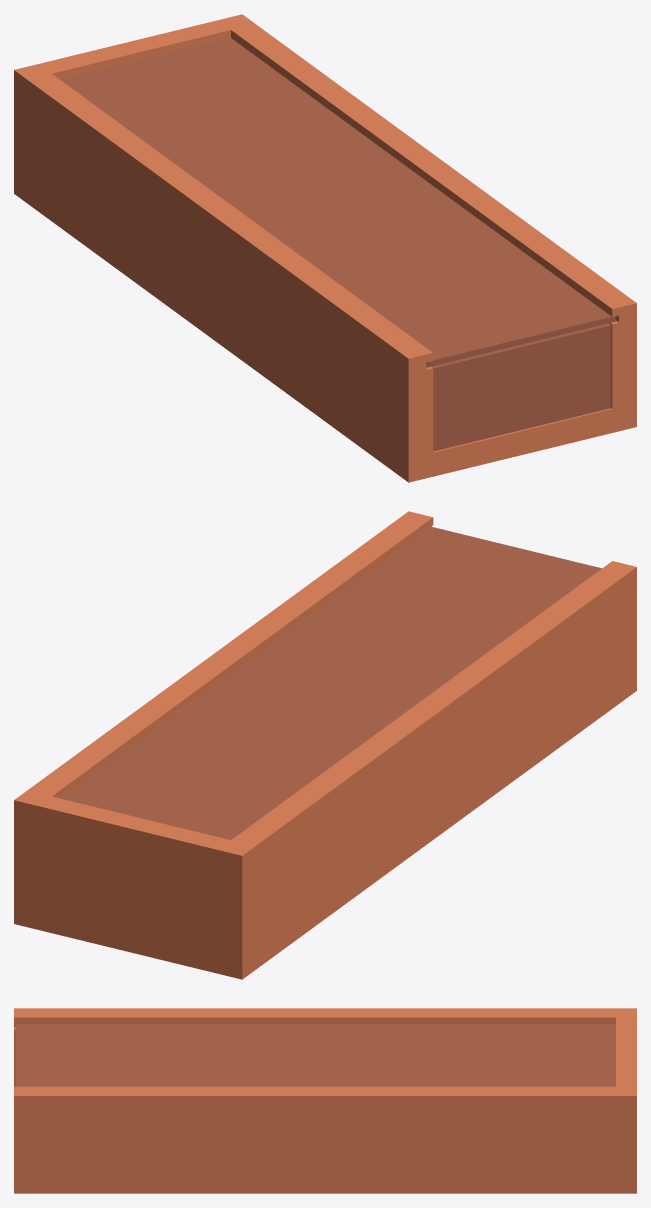
The model's file is Domino_01.fbx.
The picture shows the model from 3 angles, top to bottom: view 1: azimuth 30°, elevation 25°; view 2: azimuth 150°, elevation 25°; view 3: azimuth 270°, elevation 25°; orthographic projection. The views are drawn at different scales.
Parts seen in each view (by area): view 1: Domino_01, Domino_01_Top; view 2: Domino_01, Domino_01_Top; view 3: Domino_01, Domino_01_Top.
Part boxes in pixels (bbox=[...]): Domino_01: bbox=[14, 14, 636, 482]; Domino_01_Top: bbox=[60, 38, 615, 367]; Domino_01: bbox=[14, 511, 636, 979]; Domino_01_Top: bbox=[60, 526, 601, 839]; Domino_01: bbox=[14, 1008, 636, 1193]; Domino_01_Top: bbox=[16, 1024, 615, 1086].
Size of the model in its own units: 0.1089 by 0.0564 by 0.326.
